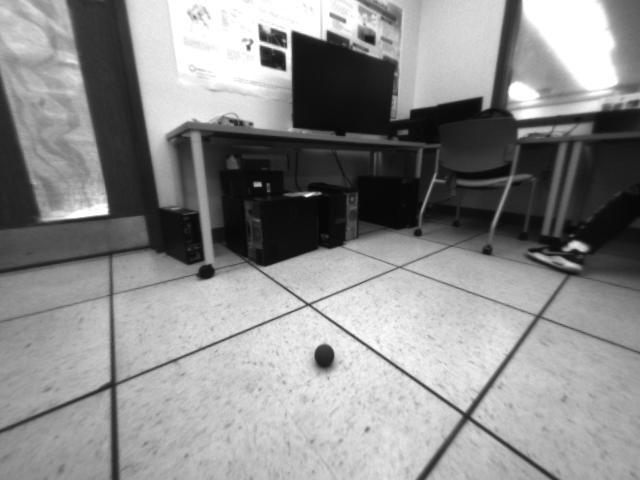dogtoy: (308, 336, 340, 374)
